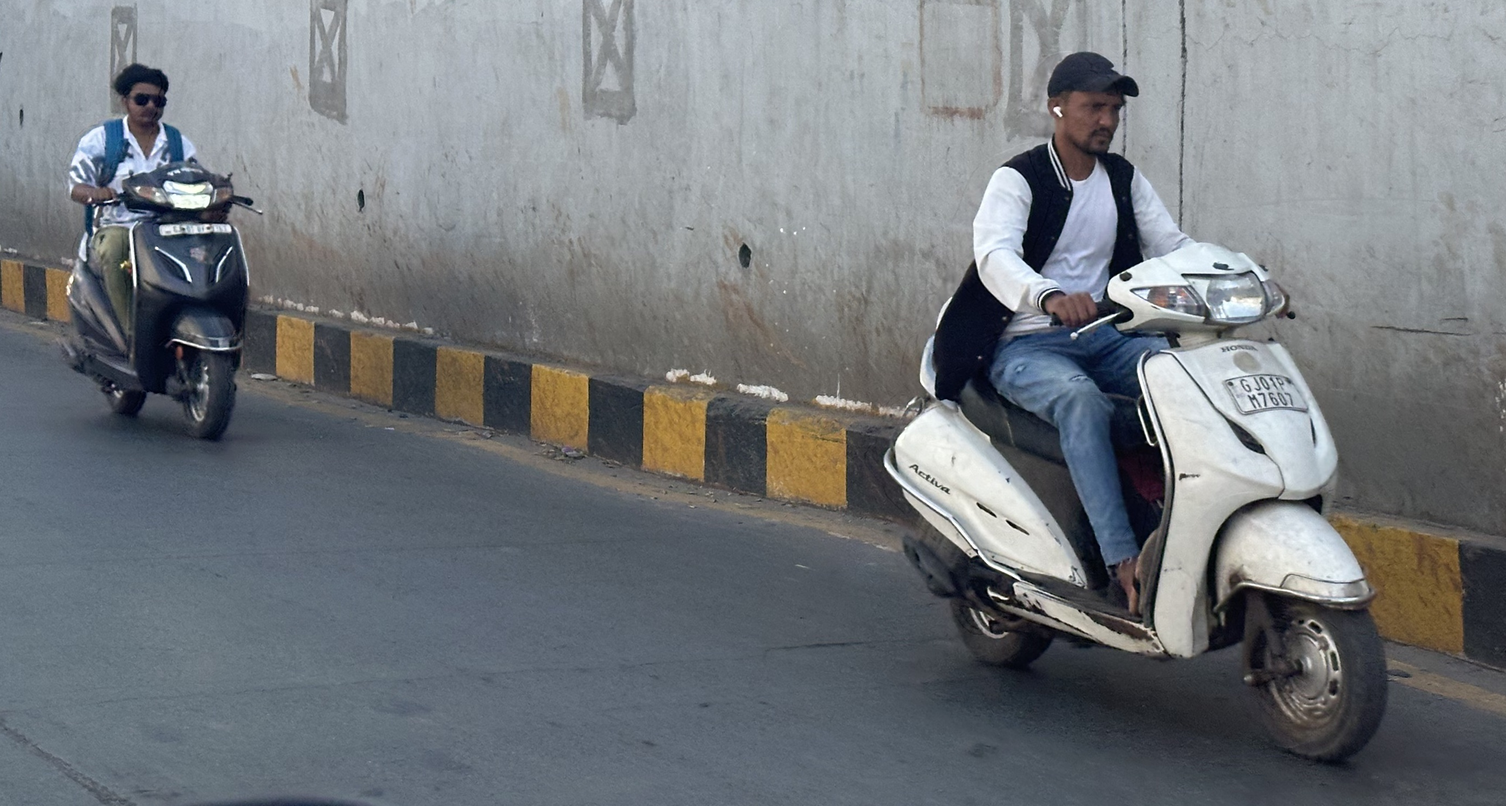BikeWithRider: (872, 41, 1405, 772), (47, 54, 273, 448)
NoHelmet: (1033, 43, 1153, 165), (105, 57, 181, 135)
